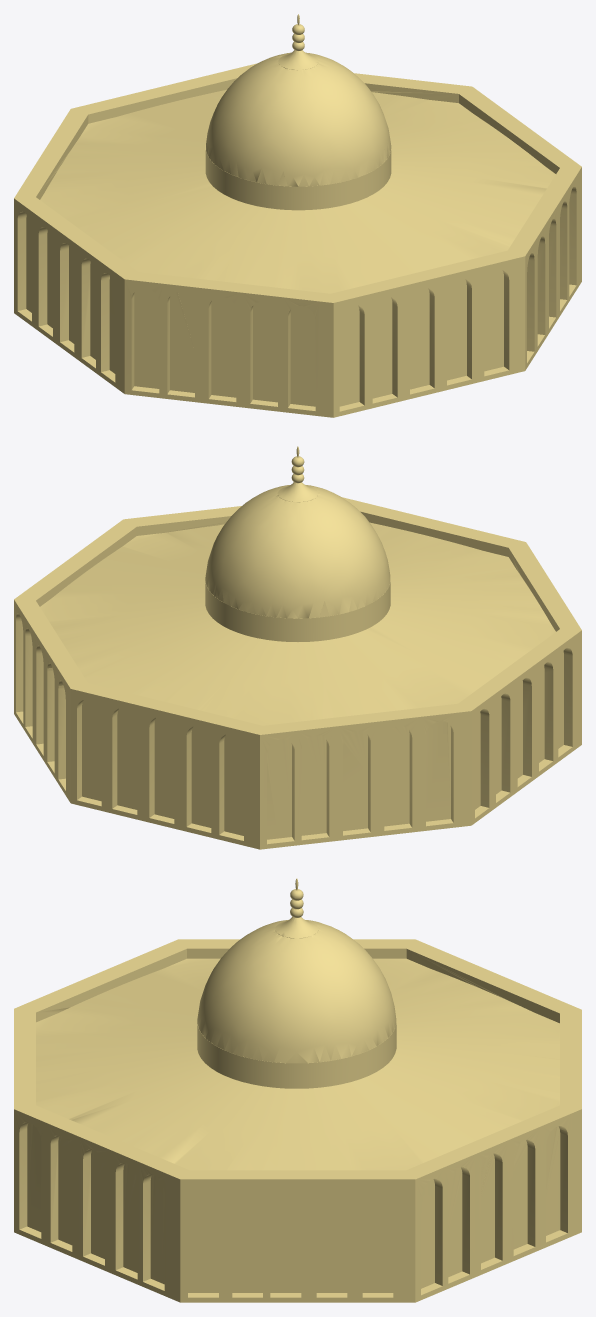
Rendered from dome.glb.
3 renders of one model, top to bottom at view 1: azimuth 30°, elevation 25°; view 2: azimuth 150°, elevation 25°; view 3: azimuth 270°, elevation 25°, orthographic. The views are drawn at different scales.
Visible parts, largest first — view 1: Dome_of_the_Rock; view 2: Dome_of_the_Rock; view 3: Dome_of_the_Rock.
Part boxes in pixels (left/top/right/bottom): Dome_of_the_Rock: left=14, top=14, right=581, bottom=417; Dome_of_the_Rock: left=14, top=446, right=581, bottom=849; Dome_of_the_Rock: left=14, top=878, right=581, bottom=1302.
Bounding box in the file's own units: 59.04 × 35 × 59.04.
